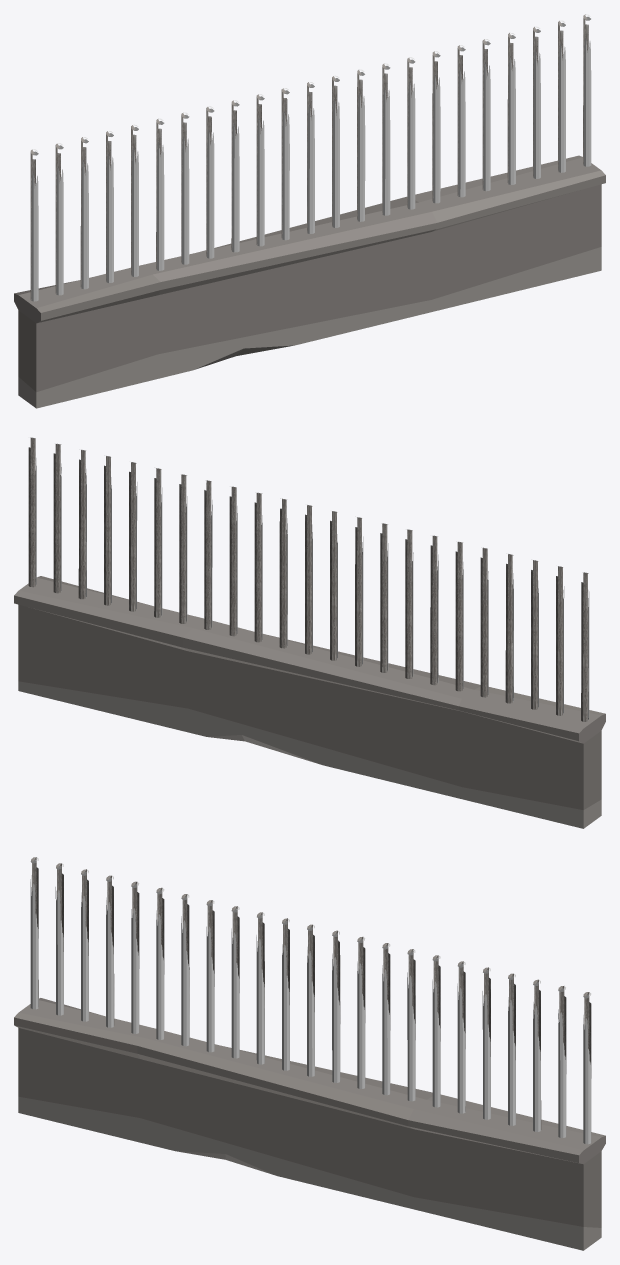
Rendered from Fence.fbx.
3 views of the same model, one above another, from view 1: azimuth 30°, elevation 25°; view 2: azimuth 150°, elevation 25°; view 3: azimuth 330°, elevation 25° (orthographic).
Parts seen in each view (by area): view 1: SM_Env_Fence_01; view 2: SM_Env_Fence_01; view 3: SM_Env_Fence_01.
Part boxes in pixels (box(x1,y1,x2,y2)): SM_Env_Fence_01: box(14, 14, 605, 408); SM_Env_Fence_01: box(14, 437, 605, 828); SM_Env_Fence_01: box(14, 857, 605, 1250).
Size of the model in its own units: 562 by 237 by 50.02.
